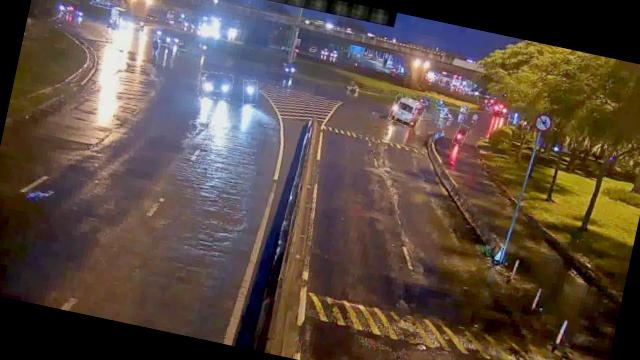Bike: (240, 78, 260, 105), (453, 122, 468, 146)
Bus: (388, 94, 426, 129)
Car: (196, 68, 235, 102)
